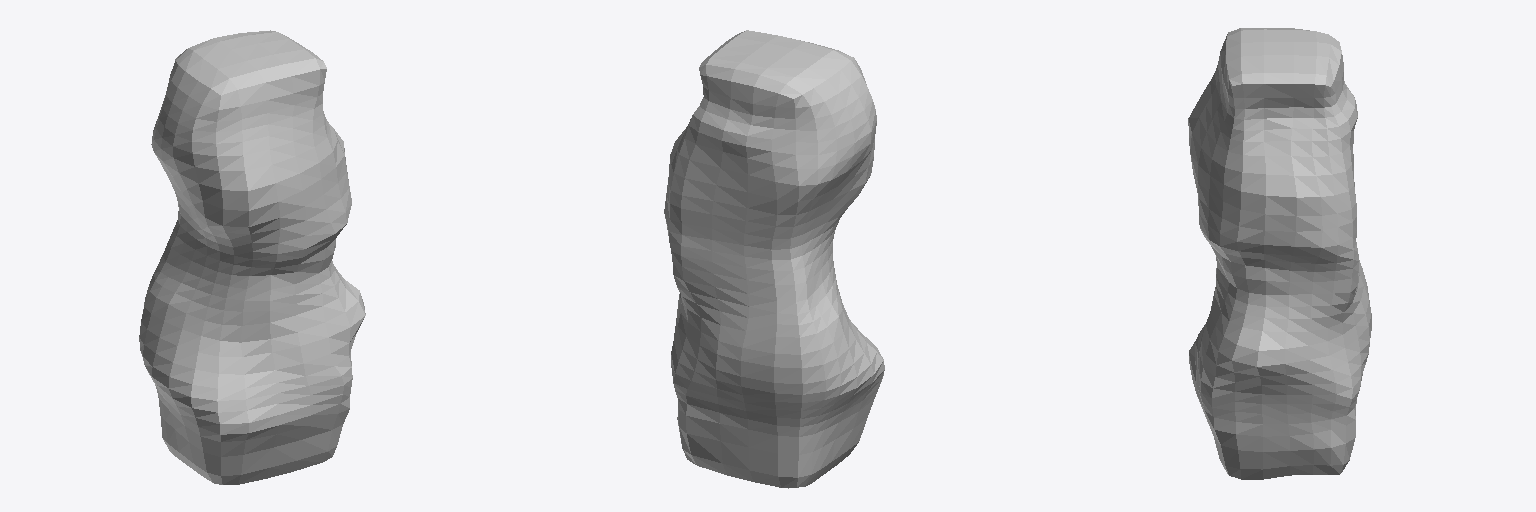
File: PM3D_rock001_009.OBJ
3 views of the same model, side by side, from view 1: azimuth 30°, elevation 25°; view 2: azimuth 150°, elevation 25°; view 3: azimuth 270°, elevation 25° (orthographic).
Visible parts, largest first — view 1: Group38151; view 2: Group38151; view 3: Group38151.
Part boxes in pixels (x1,y1,x2,y2): Group38151: (139,30,365,484); Group38151: (664,30,884,488); Group38151: (1188,28,1371,479).
Bounding box in the file's own units: 2163 × 4391 × 1775.